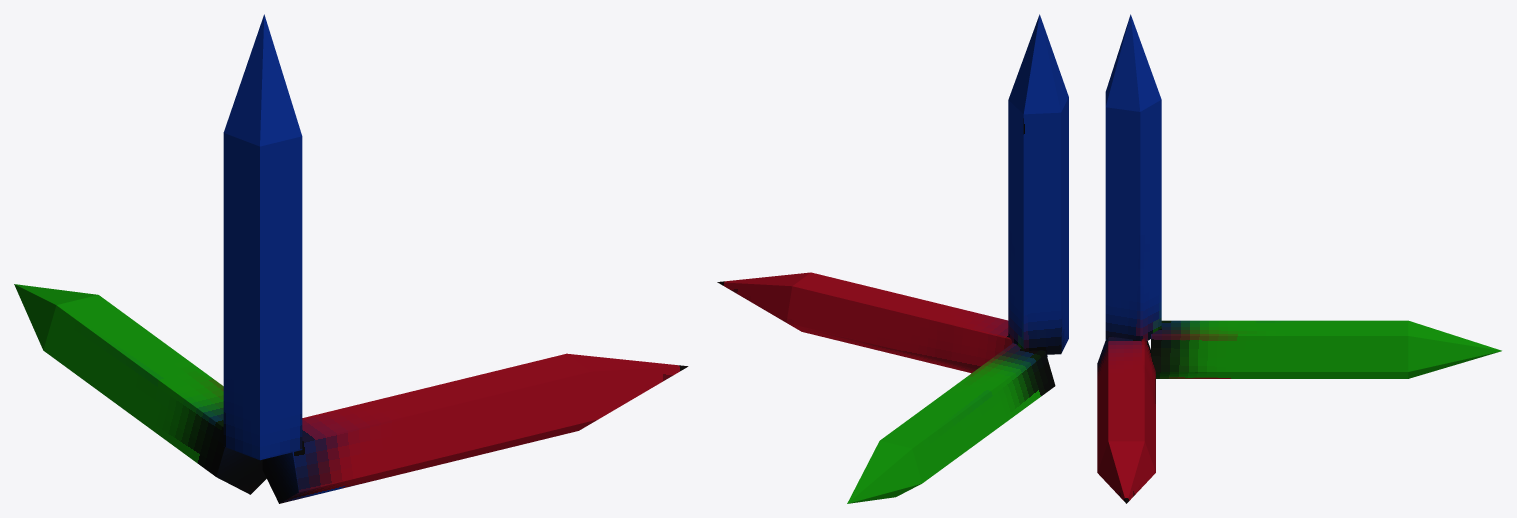
The model's file is Axis.obj.
3 renders of one model, left to right at view 1: azimuth 30°, elevation 25°; view 2: azimuth 150°, elevation 25°; view 3: azimuth 270°, elevation 25°, orthographic. The views are drawn at different scales.
Visible parts, largest first — view 1: Cylinder; view 2: Cylinder; view 3: Cylinder.
Boxes of the visible parts, x1,y1,x2,y2 form: Cylinder: [14, 14, 688, 503]; Cylinder: [717, 14, 1068, 503]; Cylinder: [1097, 14, 1501, 503].
Size of the model in its own units: 1.31 by 1.35 by 1.36.
